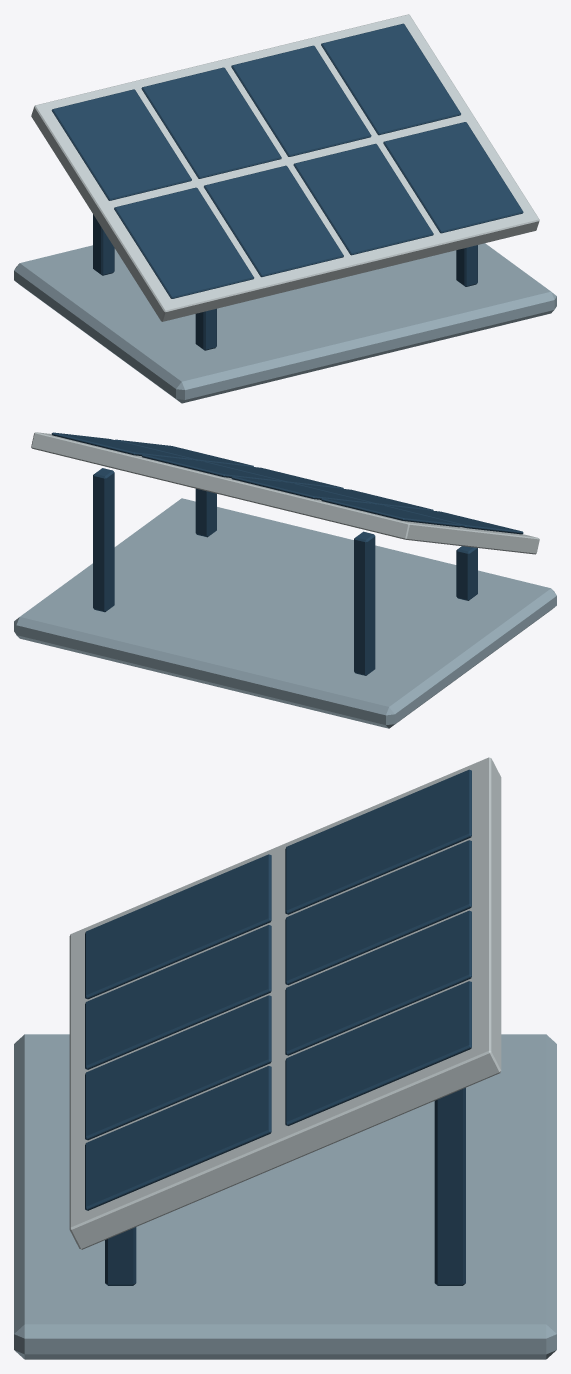
The model's file is campus_solar_v01.glb.
3 renders of one model, top to bottom at view 1: azimuth 30°, elevation 25°; view 2: azimuth 150°, elevation 25°; view 3: azimuth 270°, elevation 25°, orthographic. The views are drawn at different scales.
Parts seen in each view (by area): view 1: campus_solar; view 2: campus_solar; view 3: campus_solar.
Part boxes in pixels (box(x1,y1,x2,y2)): campus_solar: box(14, 14, 556, 403); campus_solar: box(14, 432, 556, 728); campus_solar: box(14, 757, 556, 1359).
Size of the model in its own units: 3.65 by 1.77 by 2.8.
